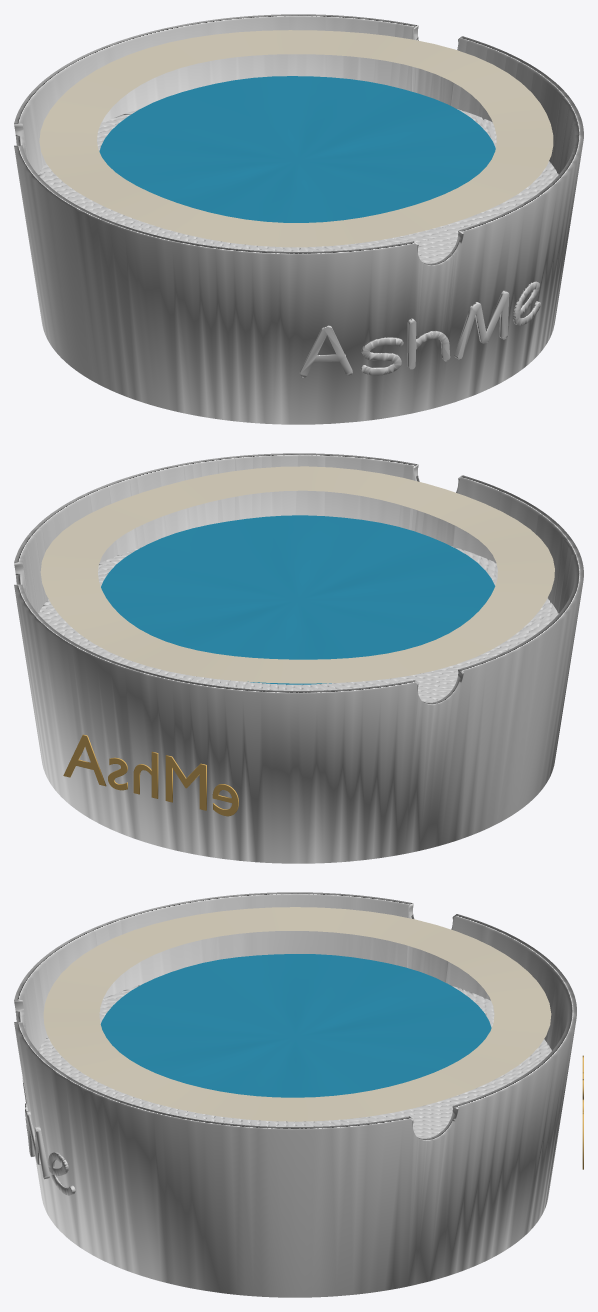
File: ashme-tray-v3.glb
3 renders of one model, top to bottom at view 1: azimuth 30°, elevation 25°; view 2: azimuth 150°, elevation 25°; view 3: azimuth 270°, elevation 25°, orthographic.
Visible parts, largest first — view 1: AshMe disposable tray, AshMe gel | aqua top surface, AshMe rim | warm ivory lip; view 2: AshMe disposable tray, AshMe gel | aqua top surface, AshMe rim | warm ivory lip, AshMe branding | gold wordmark; view 3: AshMe disposable tray, AshMe gel | aqua top surface, AshMe rim | warm ivory lip.
Part boxes in pixels (x1=…): AshMe disposable tray: x1=14, y1=14, x2=583, y2=424; AshMe gel | aqua top surface: x1=99, y1=76, x2=495, y2=222; AshMe rim | warm ivory lip: x1=39, y1=30, x2=553, y2=247; AshMe disposable tray: x1=14, y1=453, x2=583, y2=863; AshMe gel | aqua top surface: x1=101, y1=515, x2=495, y2=684; AshMe rim | warm ivory lip: x1=40, y1=466, x2=554, y2=683; AshMe branding | gold wordmark: x1=63, y1=734, x2=238, y2=816; AshMe disposable tray: x1=14, y1=892, x2=576, y2=1297; AshMe gel | aqua top surface: x1=100, y1=954, x2=491, y2=1097; AshMe rim | warm ivory lip: x1=43, y1=907, x2=551, y2=1121.
Size of the model in its own units: 3.65 by 1.28 by 3.69.
